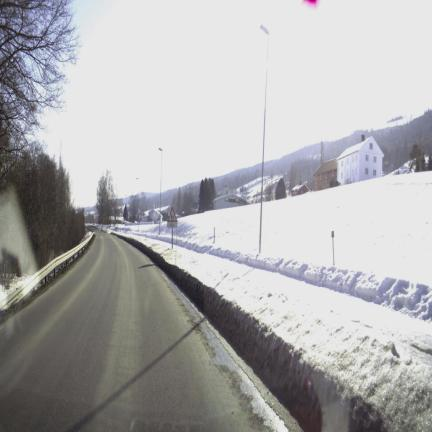Road: (0, 232, 266, 430)
